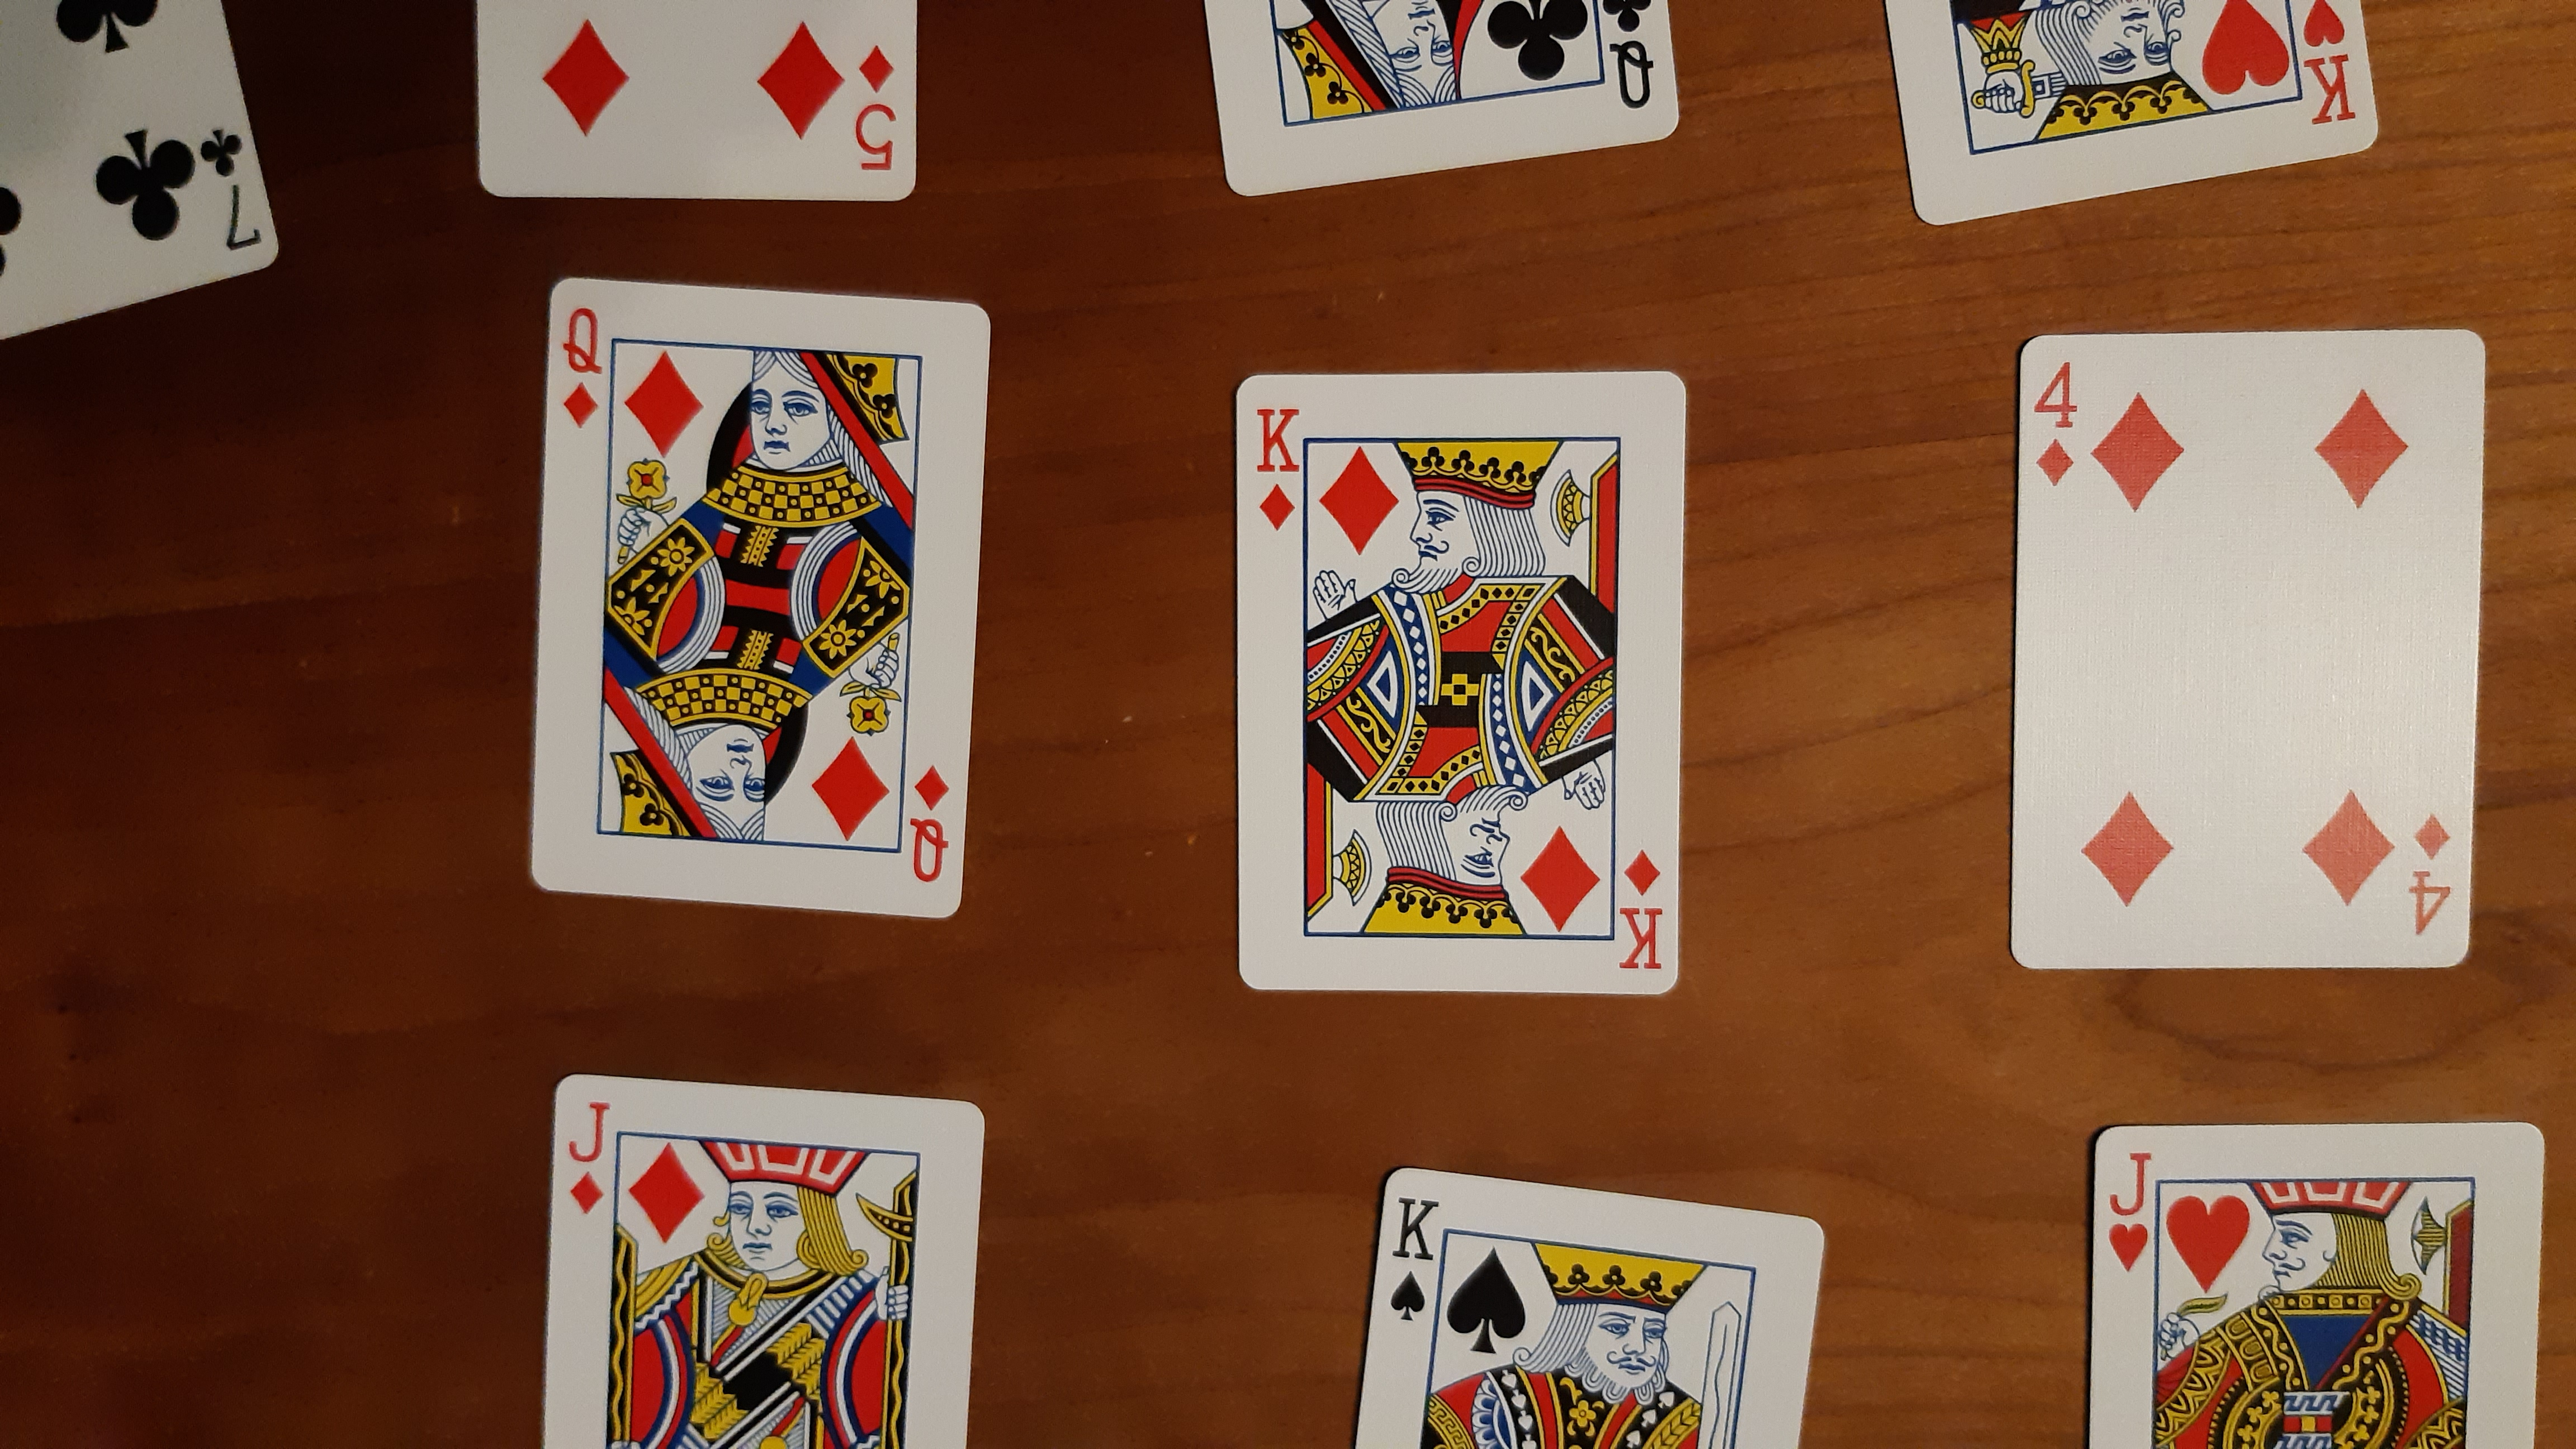Black_Club_7: (189, 120, 272, 253)
Black_Club_Queen: (1601, 4, 1668, 122)
Black_Spade_King: (1387, 1187, 1440, 1323)
Red_Diamond_4: (2403, 807, 2461, 947), (2033, 354, 2088, 492)
Red_Diamond_5: (849, 41, 904, 182)
Red_Diamond_Jack: (2098, 1145, 2158, 1274), (561, 1095, 612, 1219)
Red_Diamond_King: (1246, 396, 1302, 534), (1612, 849, 1672, 975)
Red_Diamond_Queen: (901, 757, 957, 897), (552, 301, 605, 430)
Red_Heart_King: (2296, 4, 2367, 133)
